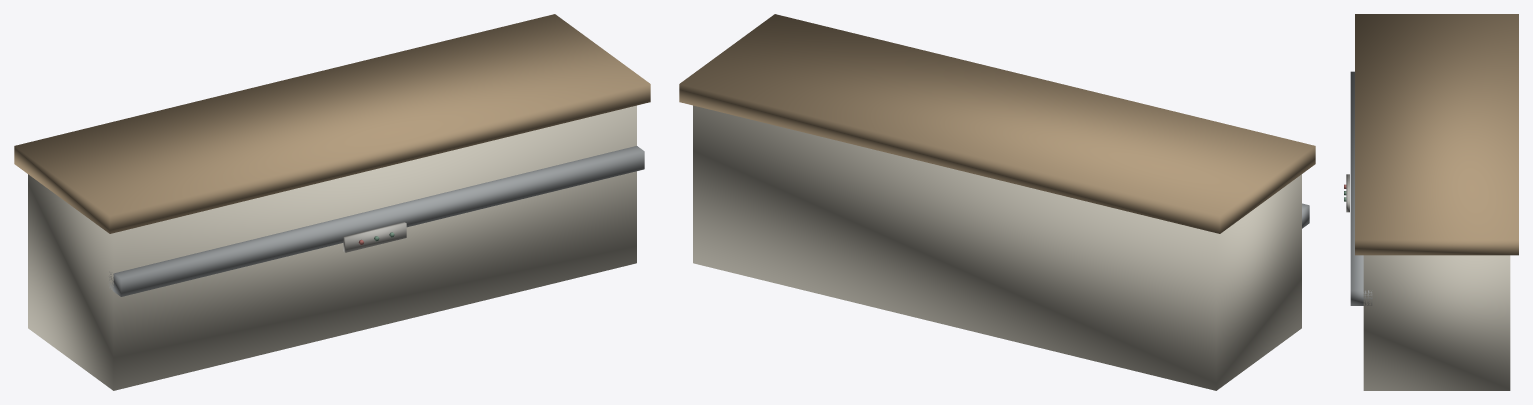
Rendered from diner_counter__reinforced.glb.
3 renders of one model, left to right at view 1: azimuth 30°, elevation 25°; view 2: azimuth 150°, elevation 25°; view 3: azimuth 270°, elevation 25°, orthographic. The views are drawn at different scales.
Visible parts, largest first — view 1: world; view 2: world; view 3: world.
Part boxes in pixels (<box>): world: <box>14,14,650,390</box>; world: <box>679,14,1315,390</box>; world: <box>1344,14,1518,390</box>.
Bounding box in the file's own units: 2.55 × 0.816 × 0.8353.
